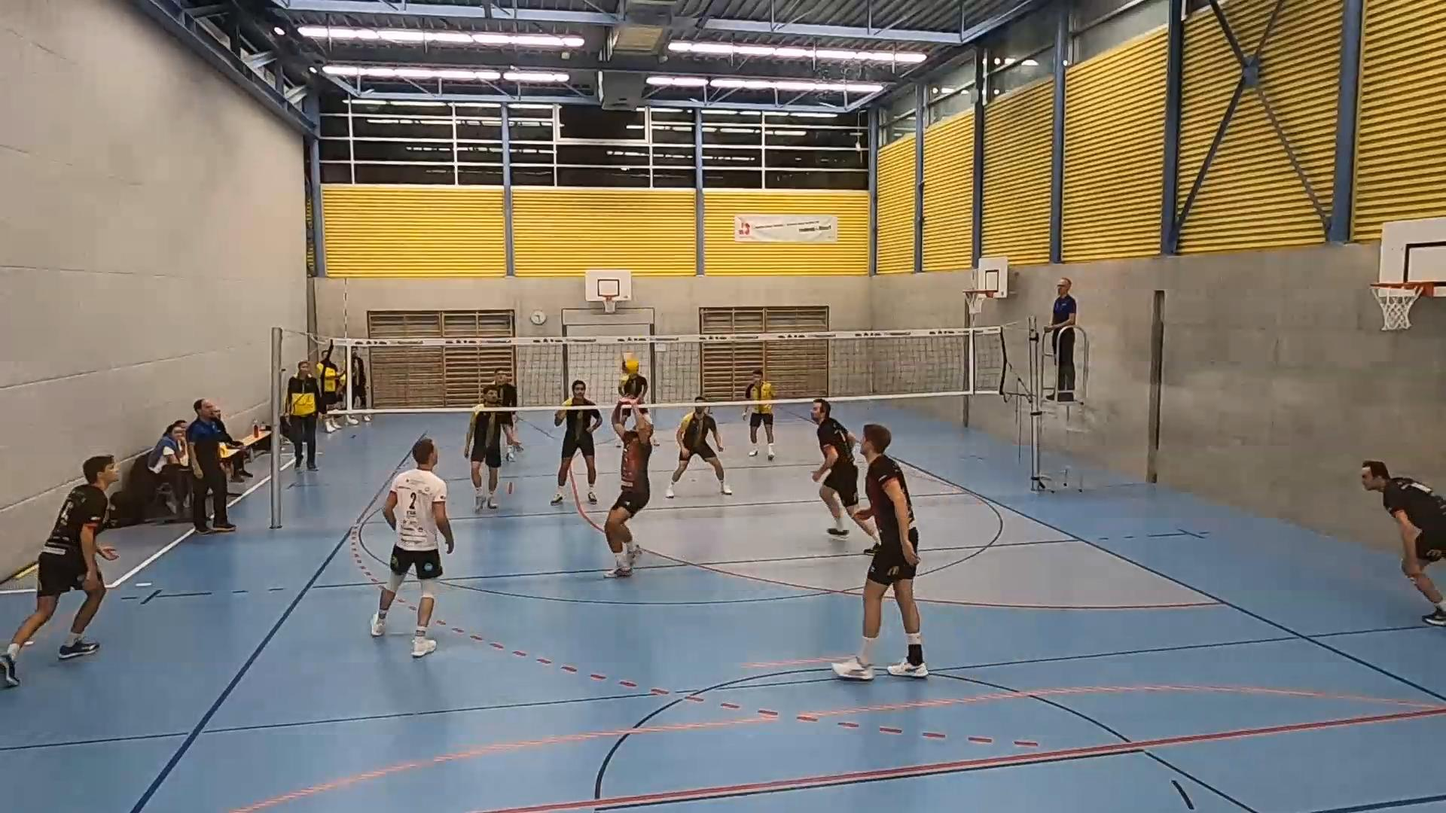alzata: (600, 380, 665, 580)
